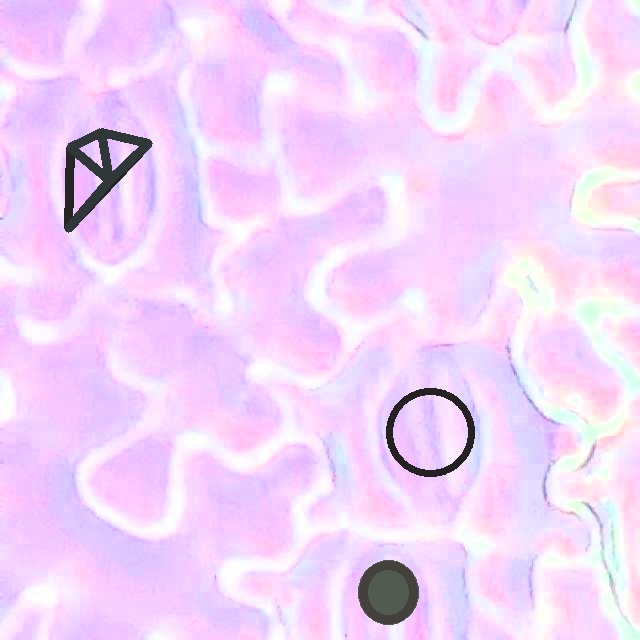open: (66, 128, 152, 231), (386, 389, 475, 475), (359, 561, 418, 623)
